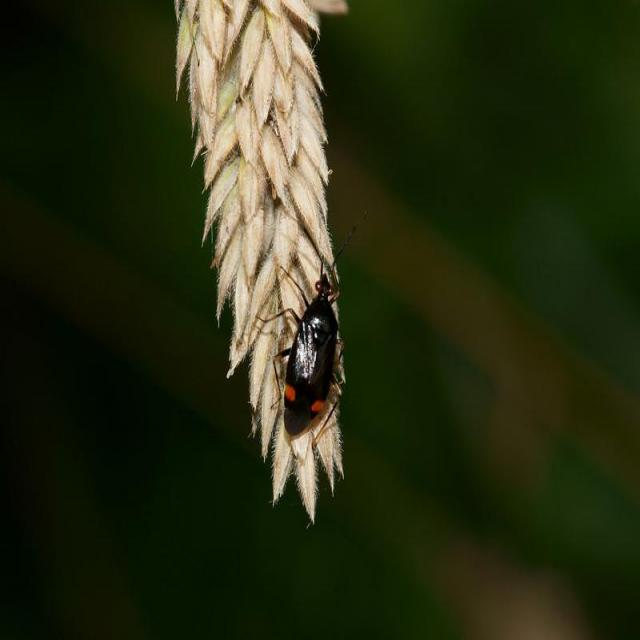Miridae-Adult-: (264, 219, 366, 457)
